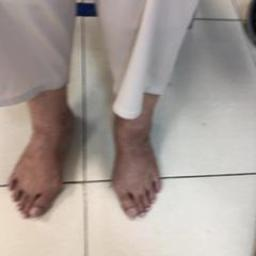Dorsal View -Both Feet-: (2, 88, 172, 230)
